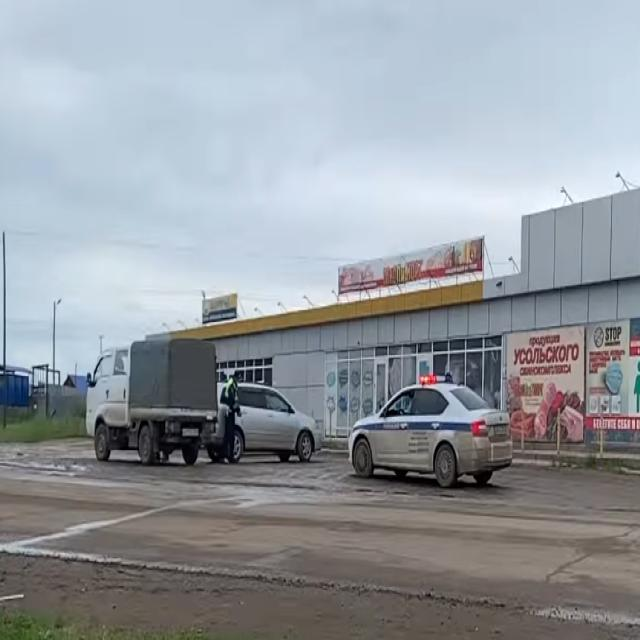non emergency car: (88, 336, 220, 468), (217, 381, 324, 463)
police car: (349, 375, 515, 494)
